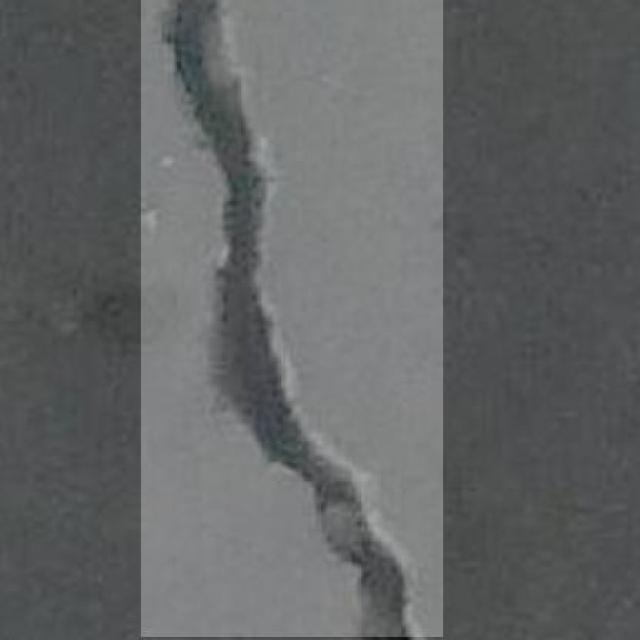Crack: (148, 3, 420, 634)
